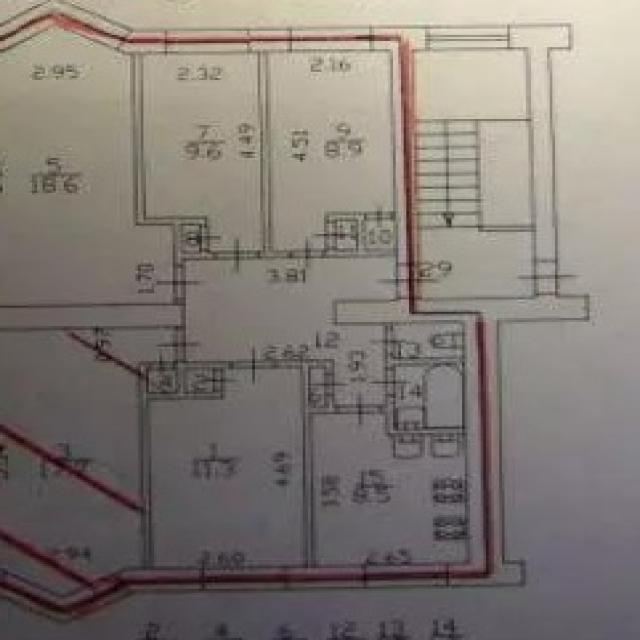Bathrooms: (395, 364, 462, 427), (393, 325, 462, 356)
Corridors: (186, 259, 395, 404), (366, 221, 393, 247), (186, 370, 217, 390), (310, 369, 325, 406), (150, 370, 175, 392), (337, 222, 357, 249), (183, 226, 201, 250)
Doors: (375, 263, 442, 300), (515, 261, 579, 297), (230, 347, 277, 388), (153, 264, 201, 303), (213, 236, 259, 275), (335, 392, 385, 427), (155, 331, 203, 359), (368, 367, 413, 396), (287, 234, 323, 269), (372, 324, 409, 358), (312, 223, 351, 249), (189, 224, 222, 251), (201, 369, 238, 392), (149, 349, 176, 378), (313, 375, 350, 396), (364, 205, 392, 230)
LBwalls: (333, 294, 590, 588), (511, 24, 573, 261), (372, 25, 427, 265), (0, 567, 203, 626), (1, 304, 187, 331), (290, 565, 366, 590), (248, 29, 291, 53)
Offices: (0, 26, 171, 304), (0, 331, 175, 595), (151, 370, 303, 567), (268, 52, 392, 249), (314, 414, 468, 565), (144, 53, 259, 250)
Stairs: (414, 49, 532, 298)
Walls: (137, 360, 231, 567), (130, 55, 217, 267), (277, 359, 335, 566), (257, 53, 292, 260), (385, 395, 465, 435), (382, 357, 463, 370), (322, 248, 395, 258), (324, 212, 365, 220), (358, 220, 364, 250)
Windows: (165, 29, 251, 53), (366, 565, 448, 589), (426, 27, 511, 50), (203, 568, 287, 591), (290, 29, 372, 52)
